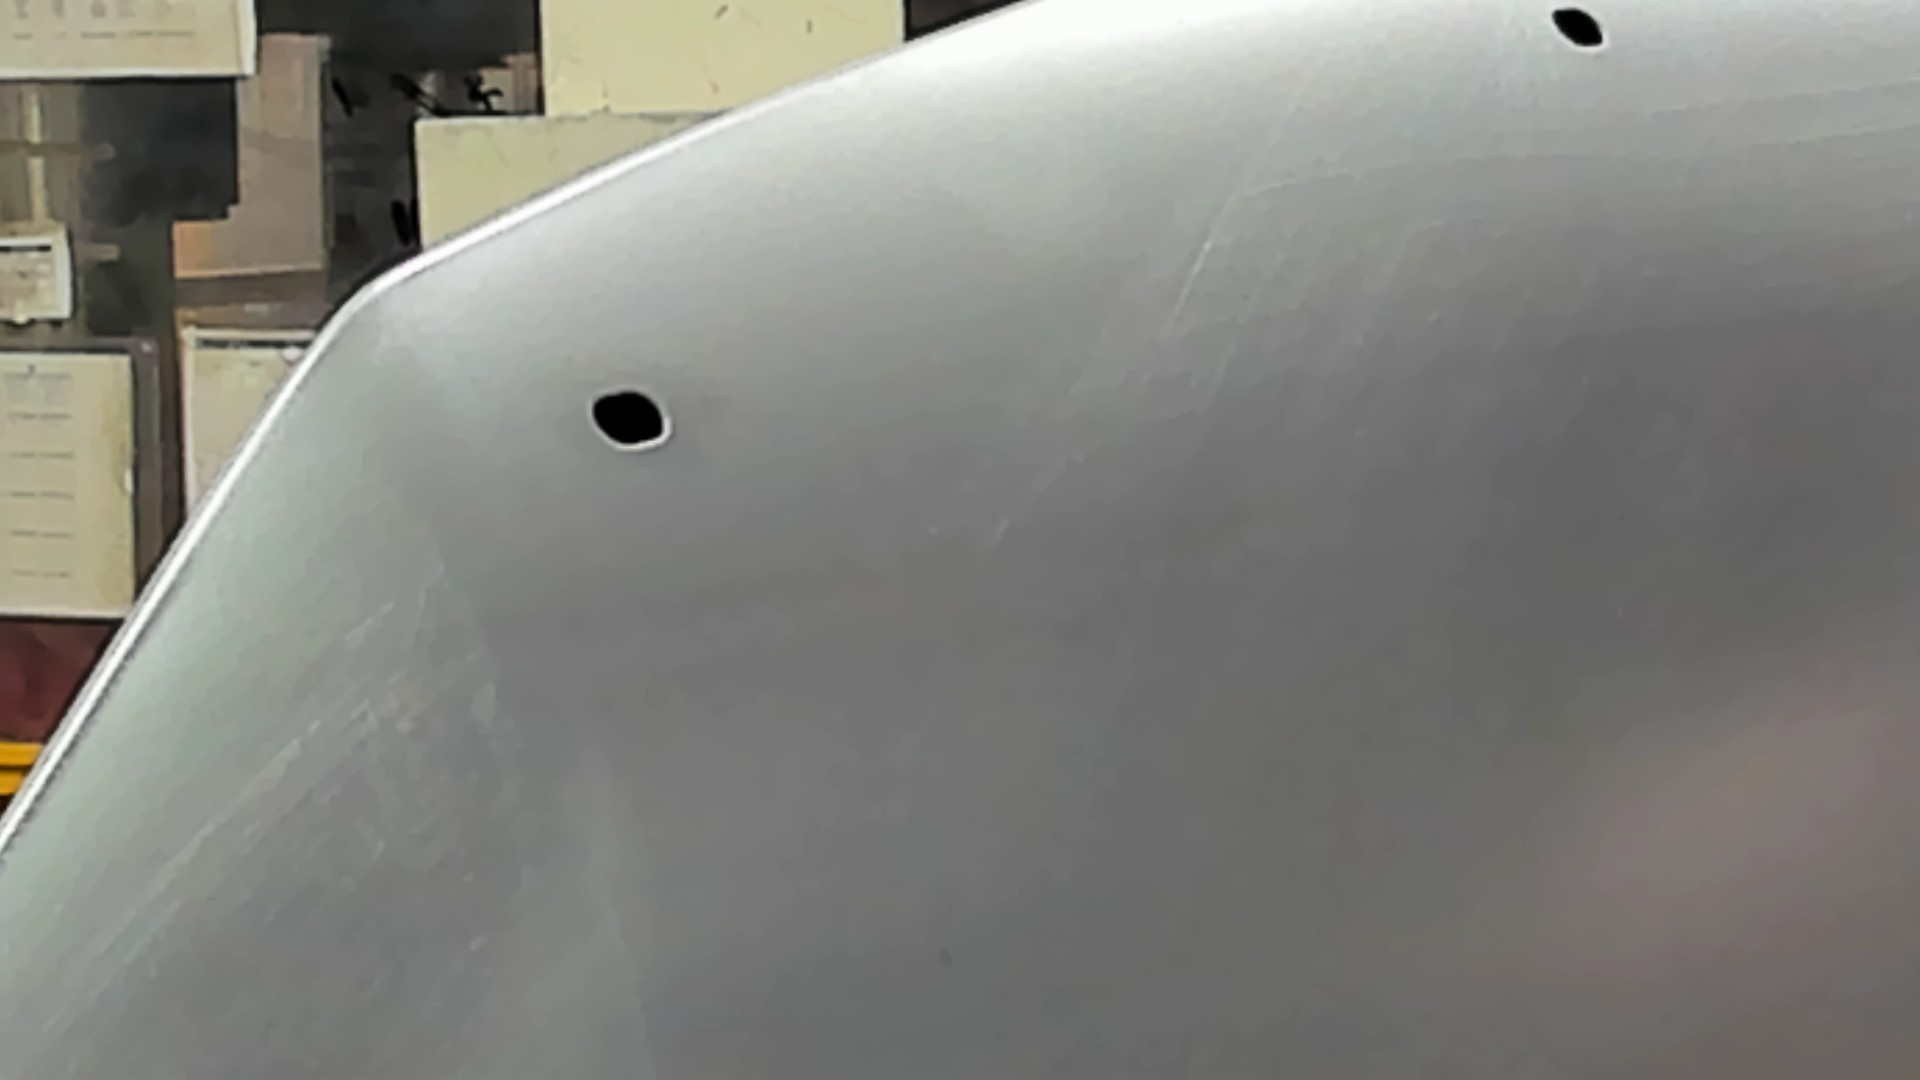amorfo: (582, 378, 673, 458), (1543, 1, 1615, 61)
capo: (799, 124, 1920, 1080)
